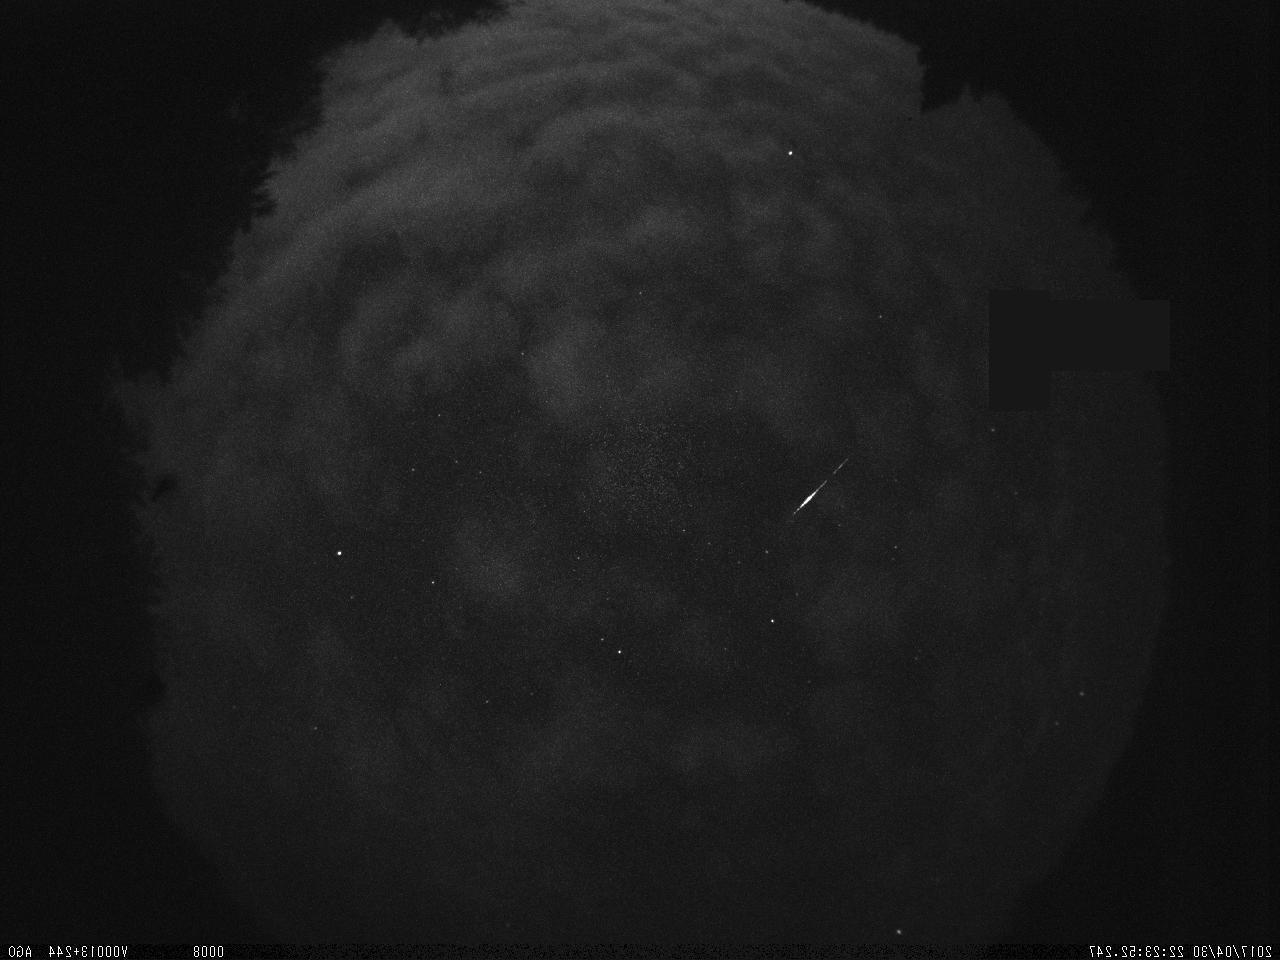meteor: (782, 449, 859, 527)
